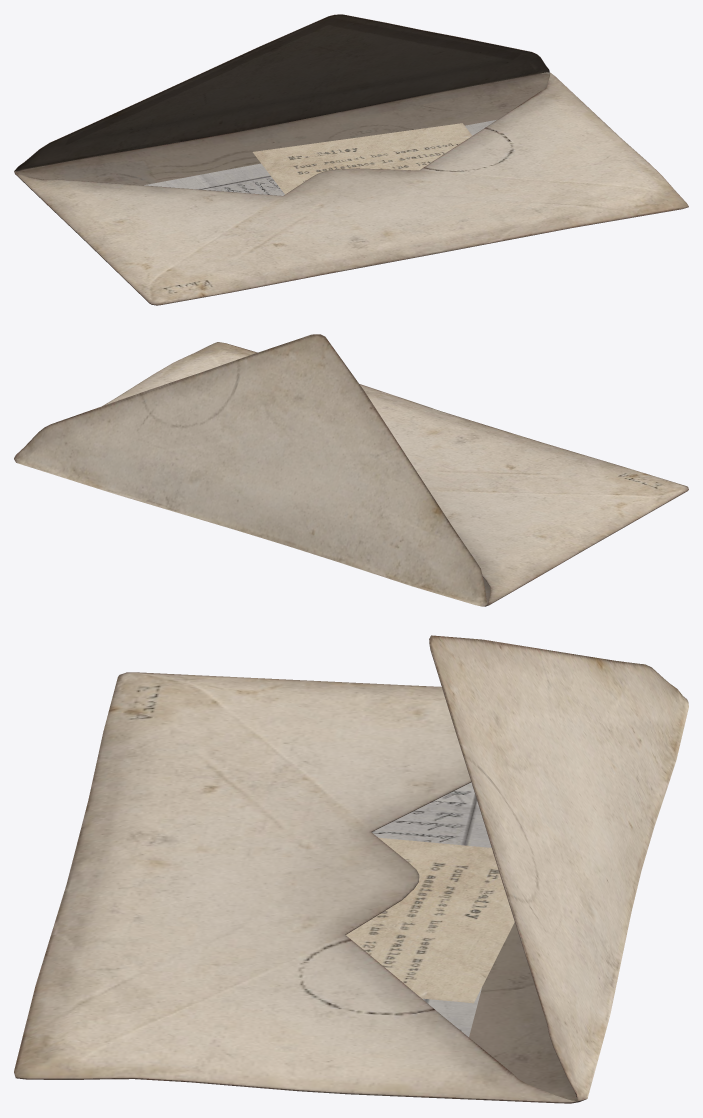
The model's file is Envelope.fbx.
The picture shows the model from 3 angles, top to bottom: view 1: azimuth 30°, elevation 25°; view 2: azimuth 150°, elevation 25°; view 3: azimuth 270°, elevation 25°; orthographic projection. The views are drawn at different scales.
Parts seen in each view (by area): view 1: Opened Envelope A; view 2: Opened Envelope A; view 3: Opened Envelope A.
Part boxes in pixels (left/top/right/bottom): Opened Envelope A: left=14, top=14, right=688, bottom=305; Opened Envelope A: left=14, top=334, right=688, bottom=606; Opened Envelope A: left=14, top=635, right=688, bottom=1103.
Bounding box in the file's own units: 17.68 × 5.08 × 11.72.
Materials: 1 (1 with a texture image).
